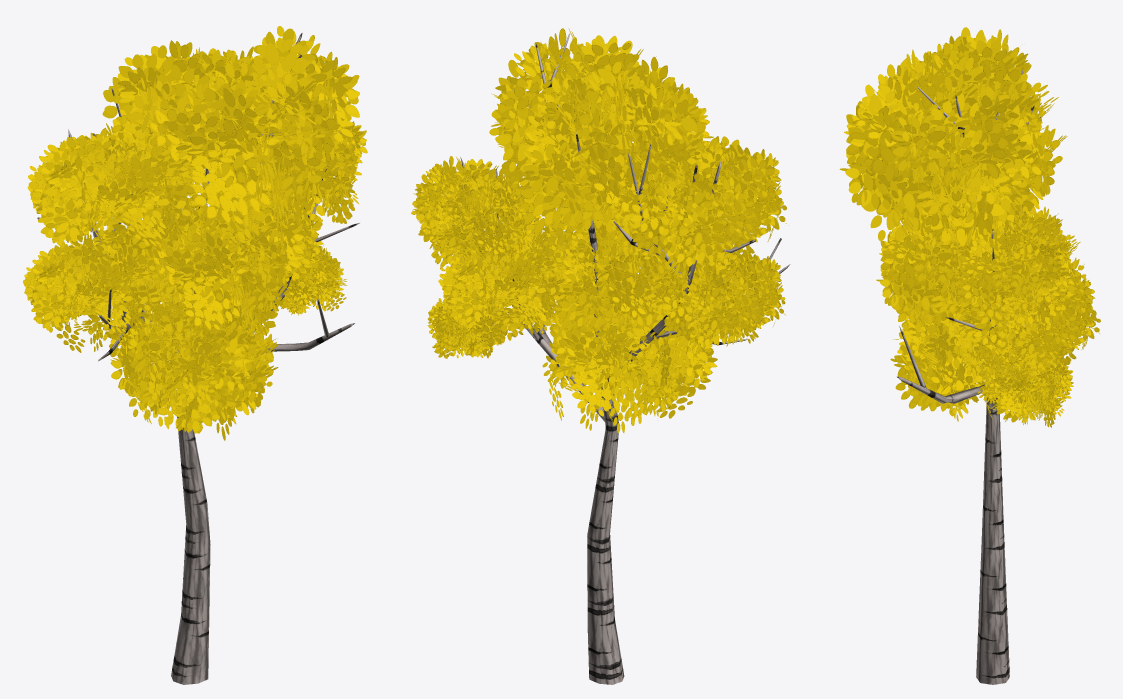
The model's file is BirchTree_3.glb.
The picture shows the model from 3 angles, left to right: view 1: azimuth 30°, elevation 25°; view 2: azimuth 150°, elevation 25°; view 3: azimuth 270°, elevation 25°; orthographic projection. The views are drawn at different scales.
Bounding box in the file's own units: 3.43 × 5.75 × 2.27.
Materials: 2 (2 with a texture image).
